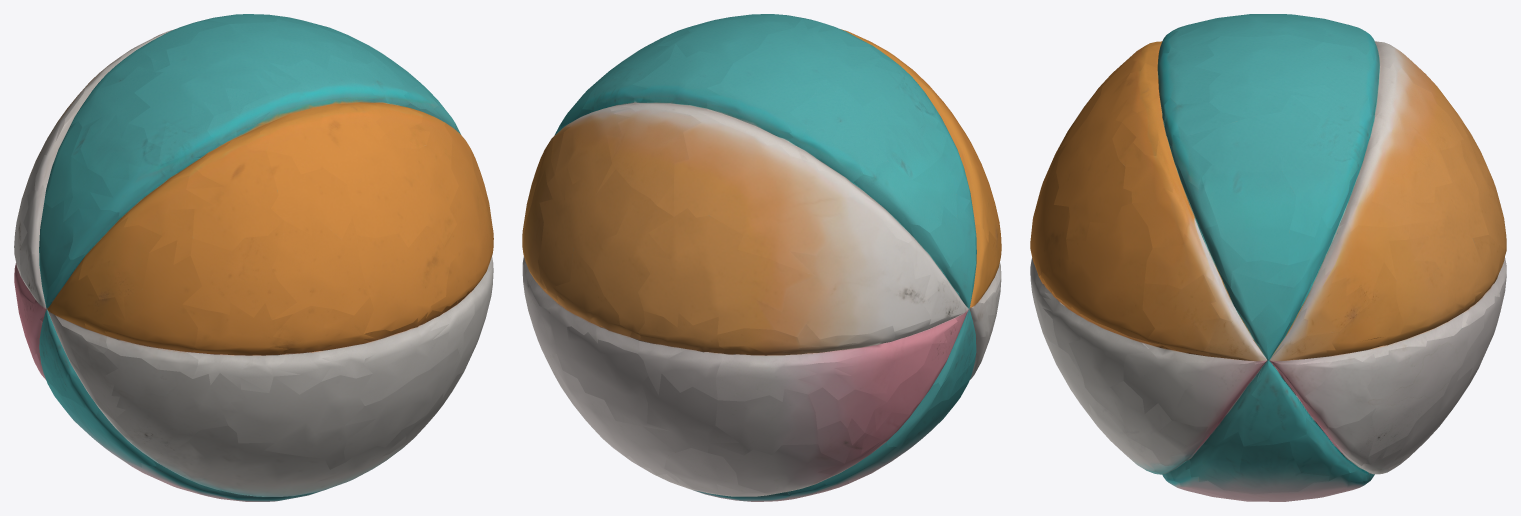
File: pallone_gonfio_b.glb
The picture shows the model from 3 angles, left to right: view 1: azimuth 30°, elevation 25°; view 2: azimuth 150°, elevation 25°; view 3: azimuth 270°, elevation 25°; orthographic projection.
Parts seen in each view (by area): view 1: Mesh_0; view 2: Mesh_0; view 3: Mesh_0.
Boxes of the visible parts, box(x1,y1,x2,y2) form: Mesh_0: box(14, 14, 493, 501); Mesh_0: box(522, 14, 1001, 501); Mesh_0: box(1030, 14, 1506, 501).
Bounding box in the file's own units: 1.9 × 1.9 × 1.86.
1 material, 1 textured.
